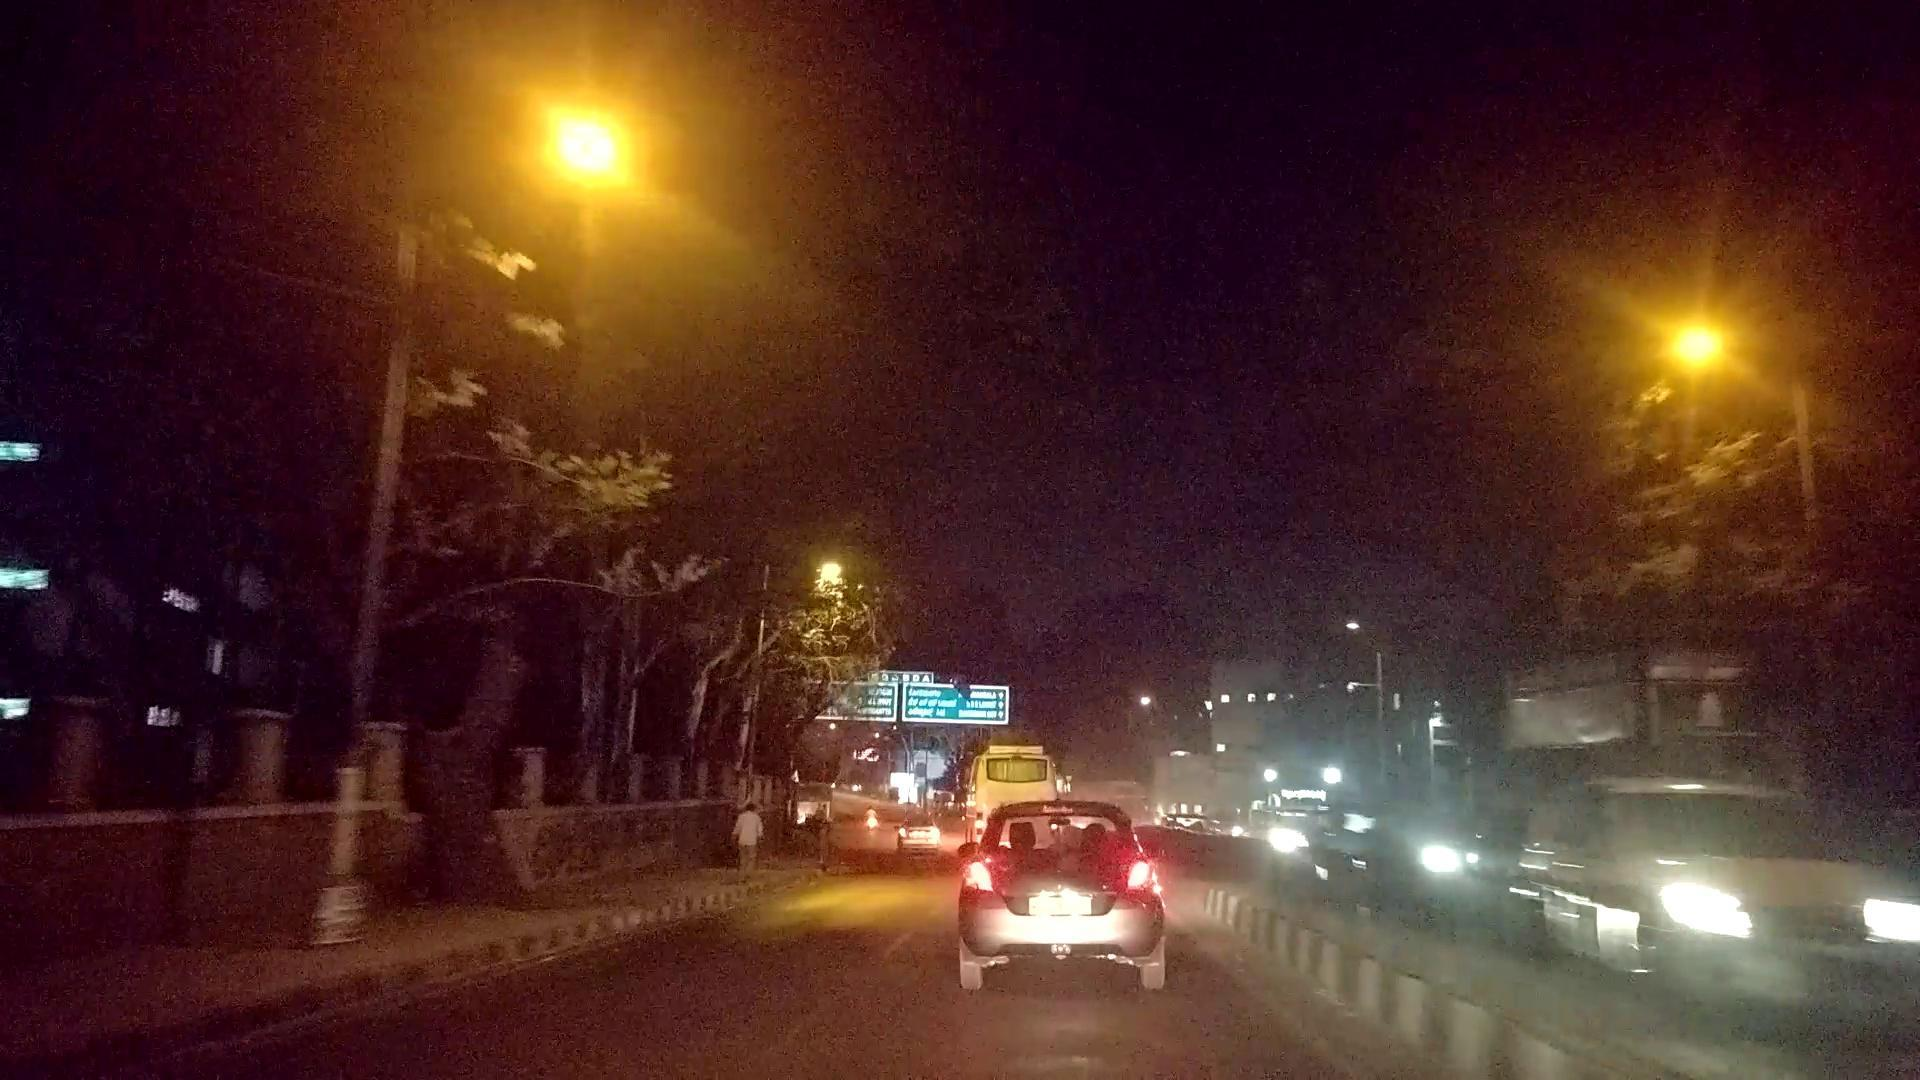on: (440, 0, 880, 404), (1540, 162, 1879, 587)
